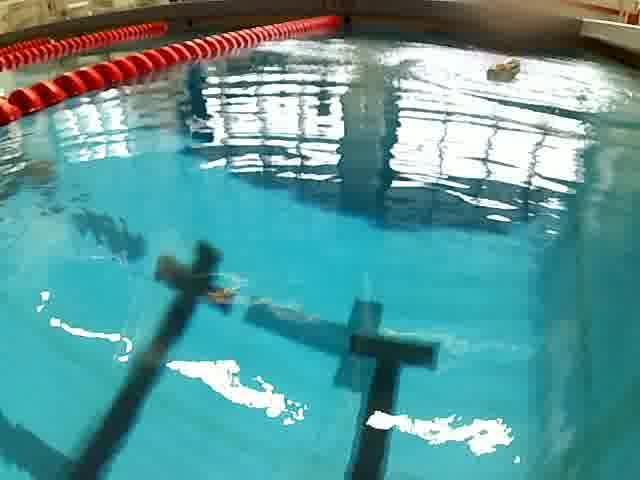Can: (479, 36, 524, 77)
